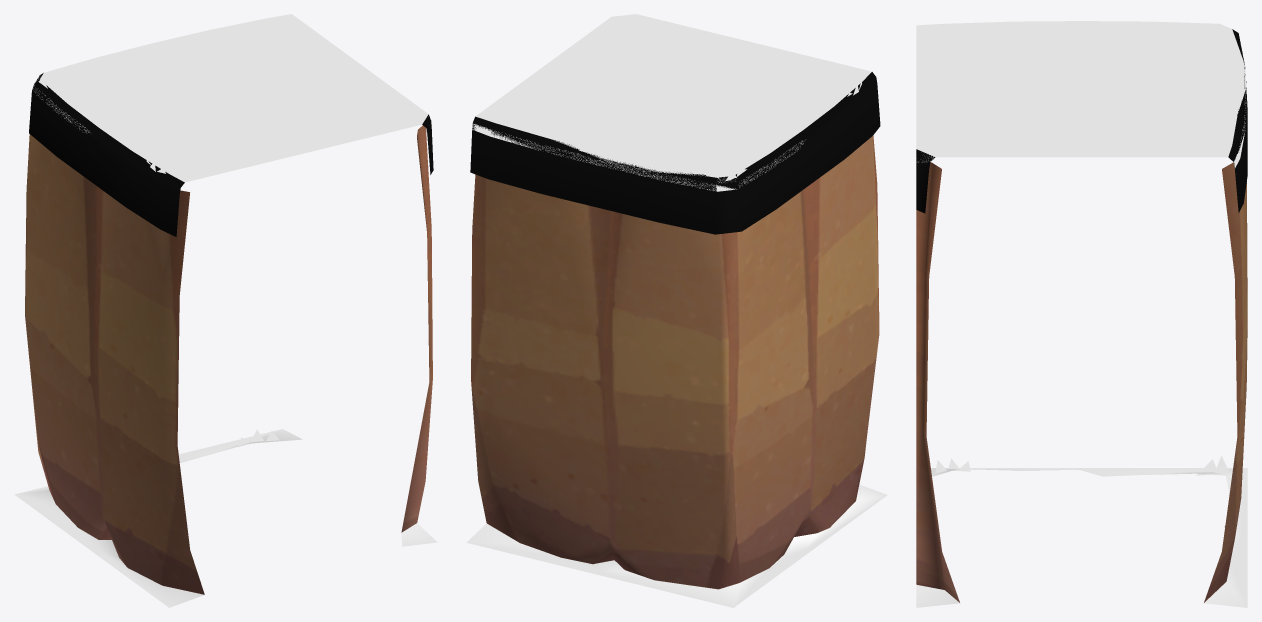
3 renders of one model, left to right at view 1: azimuth 30°, elevation 25°; view 2: azimuth 150°, elevation 25°; view 3: azimuth 270°, elevation 25°, orthographic. The views are drawn at different scales.
Visible parts, largest first — view 1: CliffThin__mCliff, GrassT__mGrass, GrassOP_1__mGrassCliffXlu, GrassB_1__mGrass; view 2: CliffThin__mCliff, GrassT__mGrass, GrassOP_1__mGrassCliffXlu, GrassB_1__mGrass, PGrassBA__mProcGrass; view 3: GrassT__mGrass, CliffThin__mCliff, GrassB_1__mGrass, GrassOP_1__mGrassCliffXlu, PGrassBA__mProcGrass.
Boxes of the visible parts, <box> form: CliffThin__mCliff: <box>25,125,432,594</box>; GrassT__mGrass: <box>33,14,428,182</box>; GrassOP_1__mGrassCliffXlu: <box>29,73,433,236</box>; GrassB_1__mGrass: <box>14,429,437,607</box>; CliffThin__mCliff: <box>471,135,879,589</box>; GrassT__mGrass: <box>472,14,871,191</box>; GrassOP_1__mGrassCliffXlu: <box>470,72,880,234</box>; GrassB_1__mGrass: <box>466,484,887,607</box>; PGrassBA__mProcGrass: <box>494,81,861,496</box>; GrassT__mGrass: <box>916,21,1246,167</box>; CliffThin__mCliff: <box>916,162,1247,602</box>; GrassB_1__mGrass: <box>916,468,1247,607</box>; GrassOP_1__mGrassCliffXlu: <box>916,29,1247,213</box>; PGrassBA__mProcGrass: <box>935,69,1242,583</box>.
Size of the model in its own units: 10 by 15.41 by 10.
4 materials, 1 textured.
